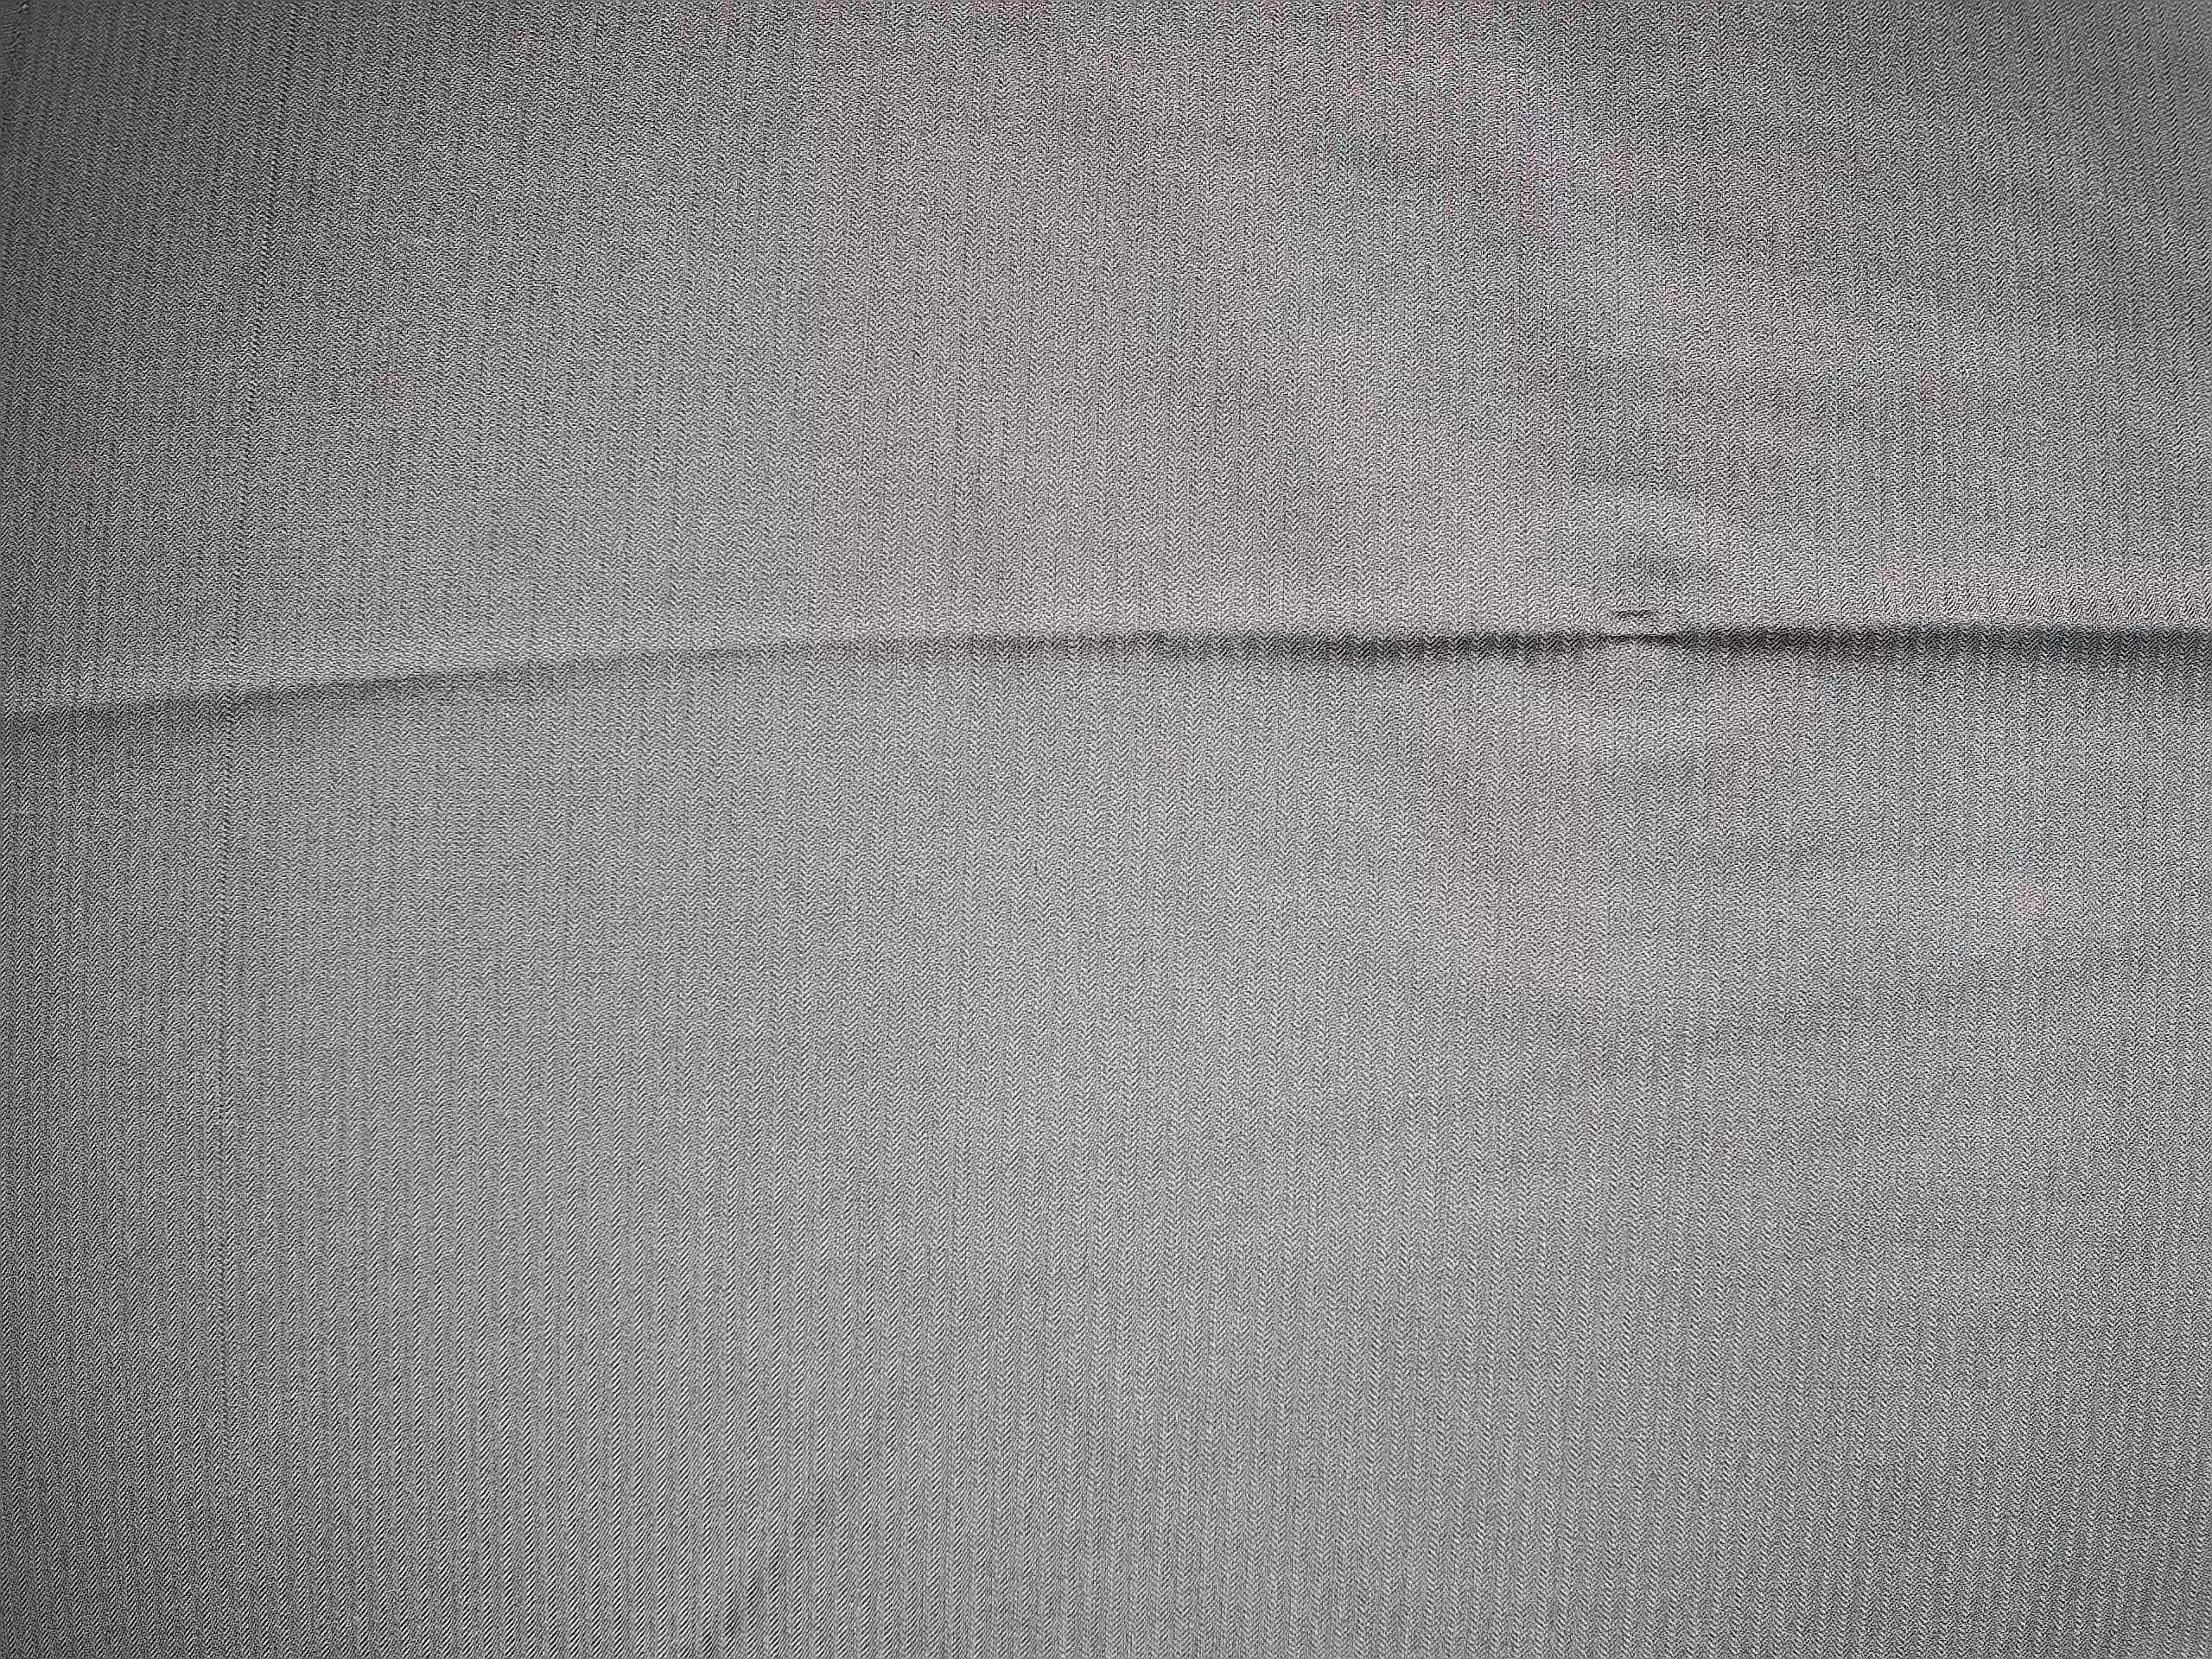hanging-warp: (206, 10, 312, 1300)
